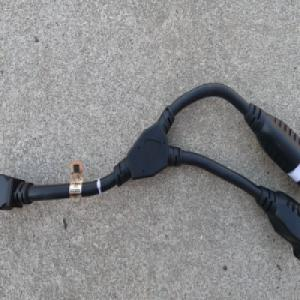Wire: (0, 80, 300, 262)
